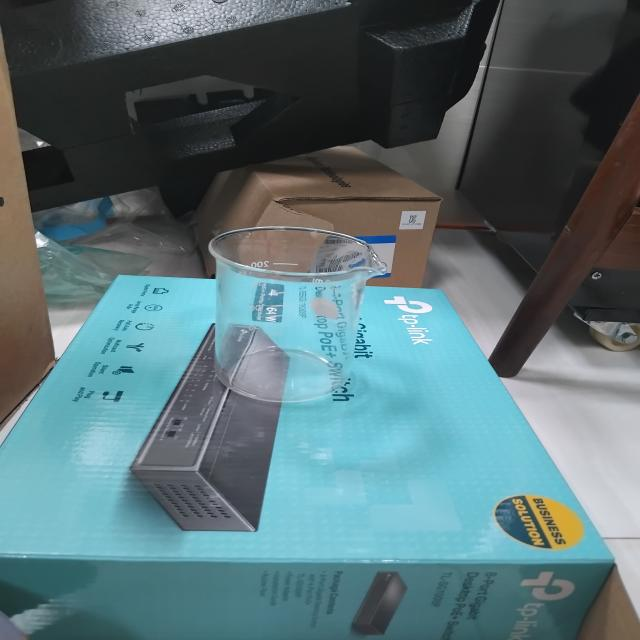Beaker: (175, 216, 398, 424)
